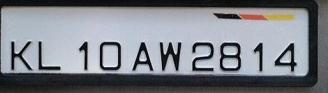0: (96, 40, 124, 70)
1: (76, 37, 92, 70), (251, 41, 267, 71)
4: (273, 39, 301, 72)
8: (218, 39, 241, 71)
A: (130, 40, 154, 71)
K: (8, 39, 34, 70)
L: (33, 39, 62, 70)
W: (154, 38, 183, 71), (190, 40, 216, 72)
